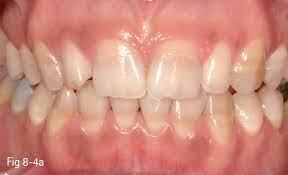Calculus: (231, 34, 270, 91), (205, 85, 241, 142), (169, 92, 206, 141), (31, 40, 67, 90)
Discoloration: (2, 75, 35, 115)
